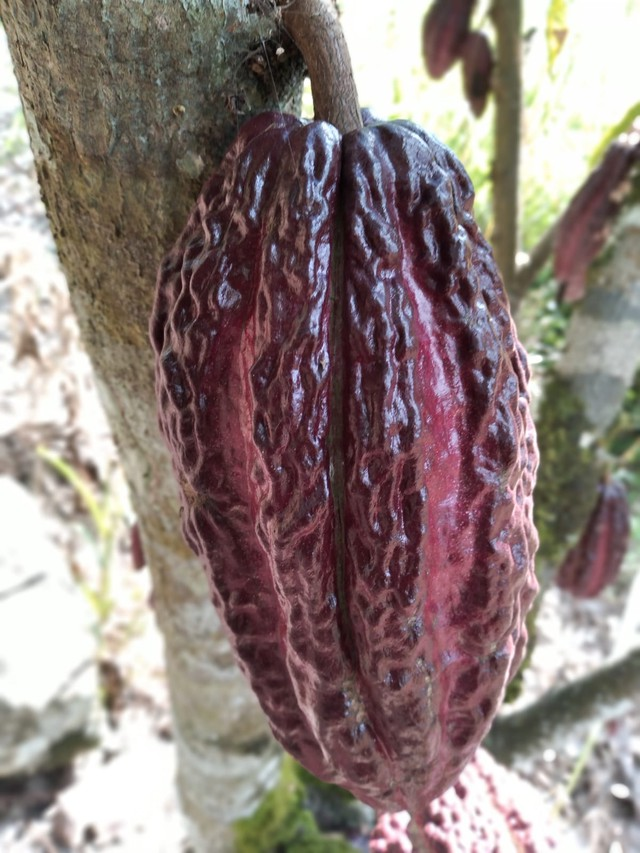Health: (148, 110, 548, 822)
